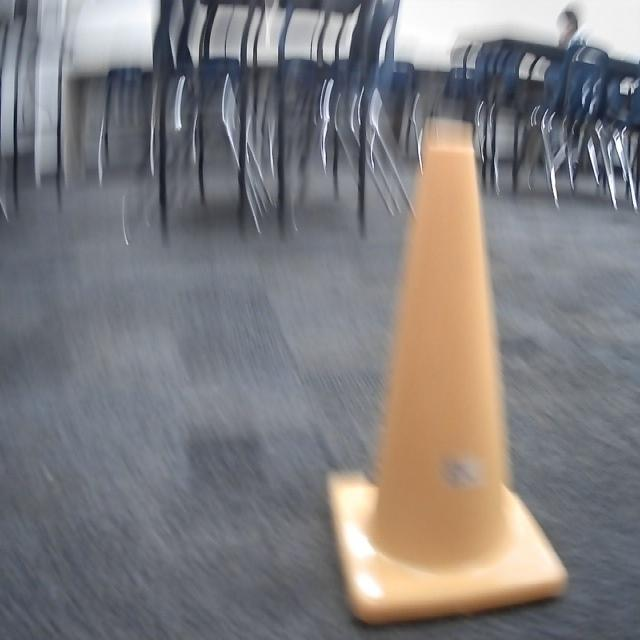cone: (322, 114, 572, 633)
